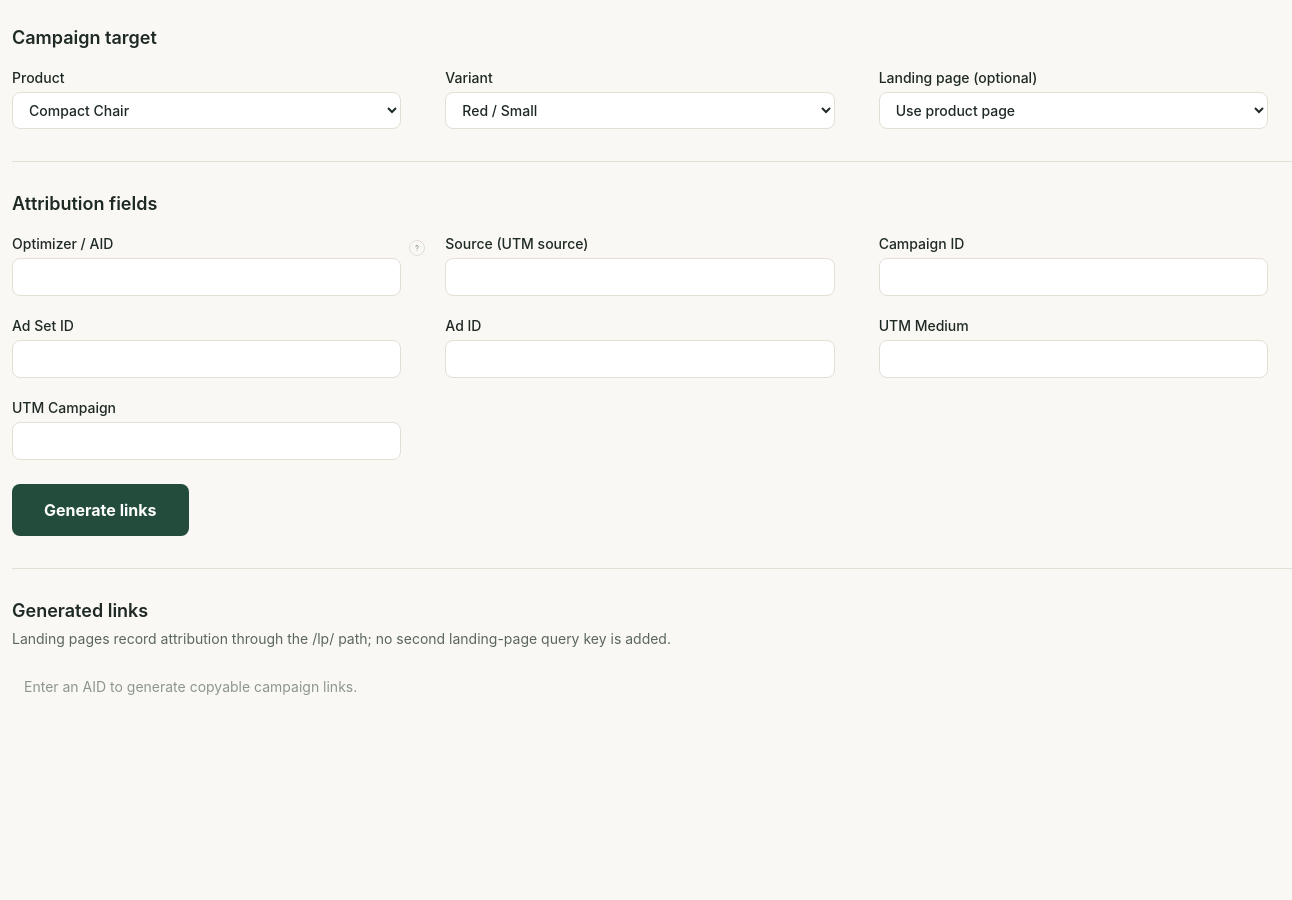
it: CampaignLinkBuilder › shows localized validation and clears cross-product selections
This screenshot has width=1292, height=900.
Click the button "Generate links": (100, 510) 12,484 -> 188,536
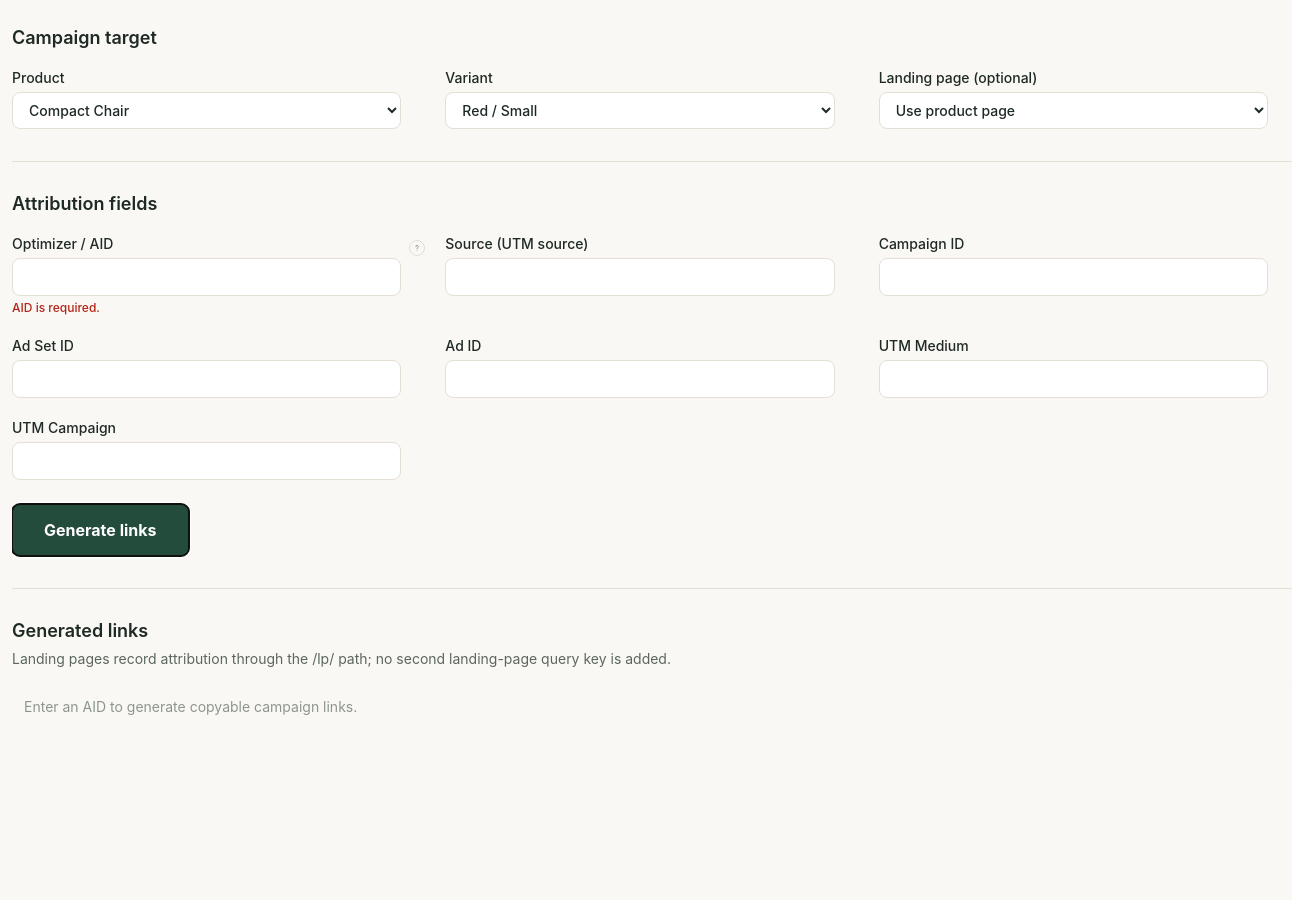
expect the text "AID is required." is shown: met, box 12,300 -> 100,315
Select "Storage Shelf" in the dropdown labelled "Product": (207, 110) 12,92 -> 401,129
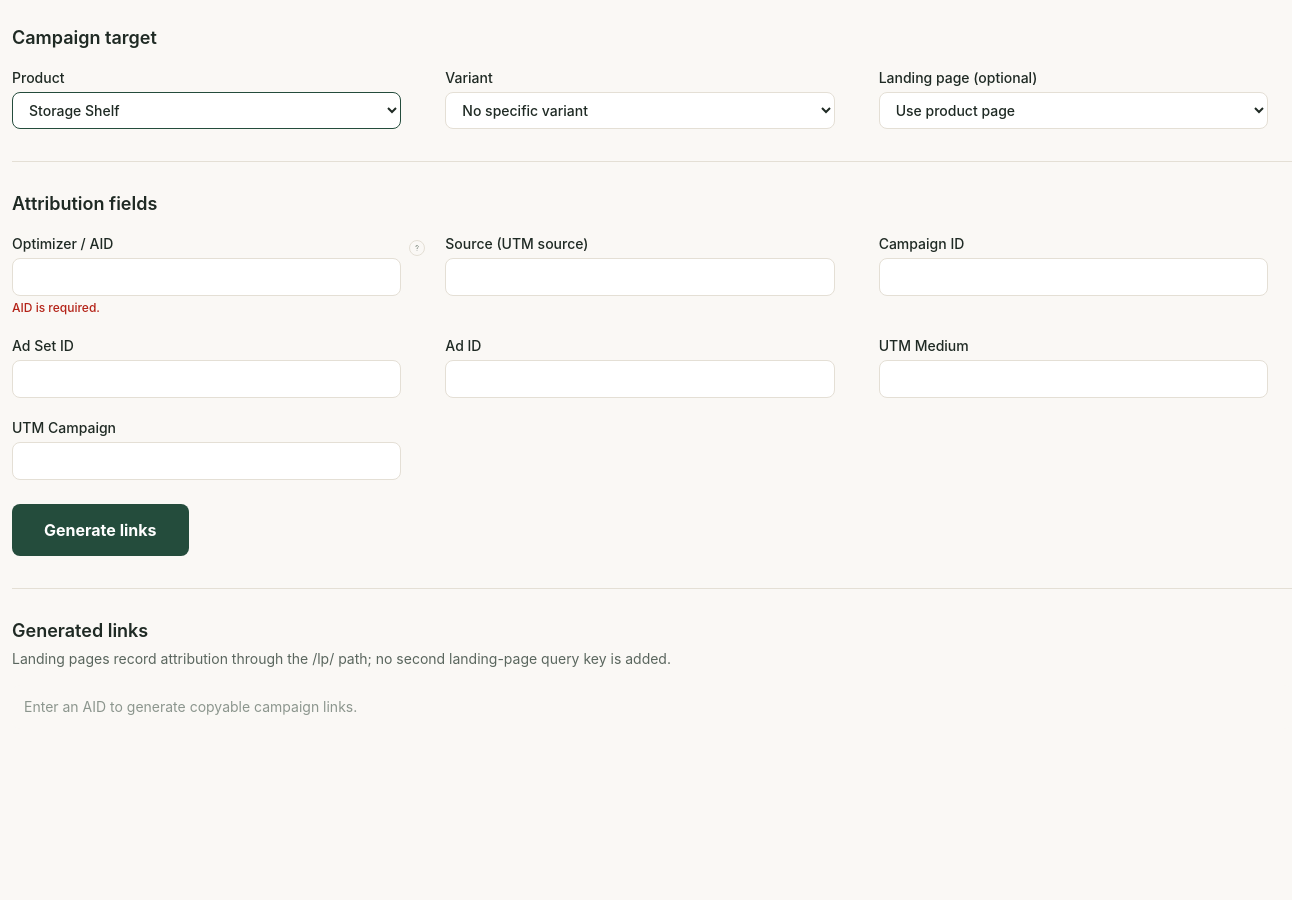
expect the dropdown labelled "Landing page (optional)" shows "Use product page": met, box 879,92 -> 1268,129
expect the dropdown labelled "Variant" shows "No specific variant": met, box 445,92 -> 835,129
